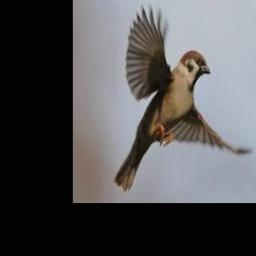Sparrow: (114, 4, 253, 192)
